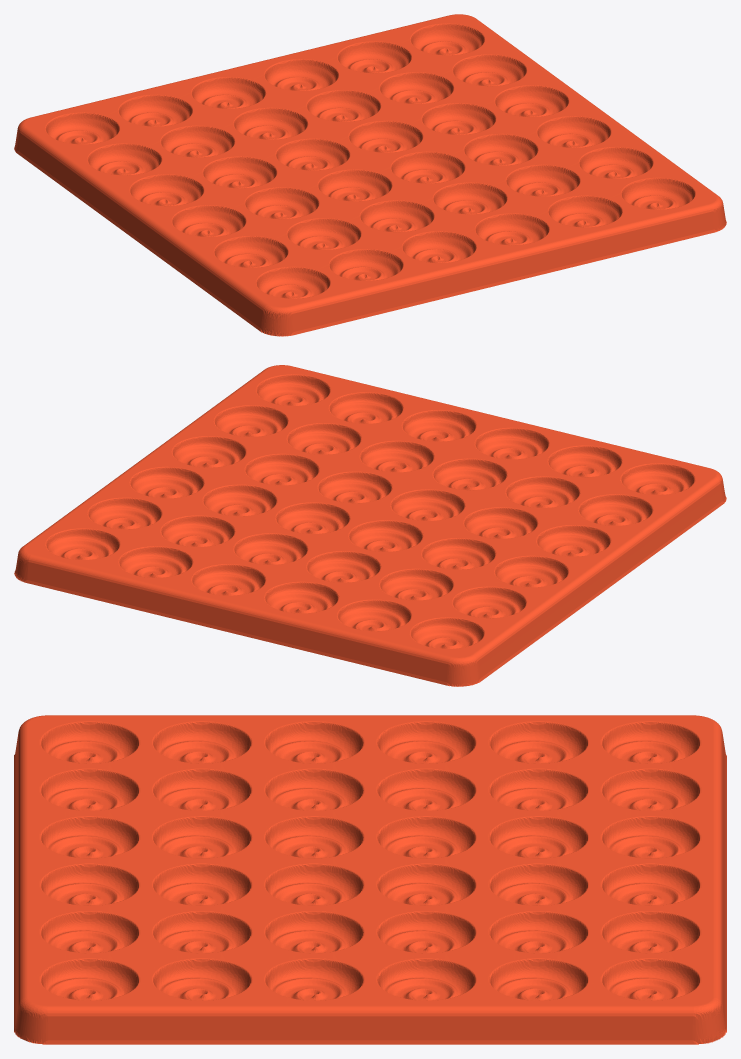
Rendered from mold.glb.
3 views of the same model, one above another, from view 1: azimuth 30°, elevation 25°; view 2: azimuth 150°, elevation 25°; view 3: azimuth 270°, elevation 25° (orthographic). The views are drawn at different scales.
Parts seen in each view (by area): view 1: geometry_0; view 2: geometry_0; view 3: geometry_0.
Boxes of the visible parts, bbox=[...] form: geometry_0: bbox=[14, 14, 726, 336]; geometry_0: bbox=[14, 365, 726, 686]; geometry_0: bbox=[14, 715, 726, 1044].
Bounding box in the file's own units: 0.1877 × 0.00958 × 0.1877.
